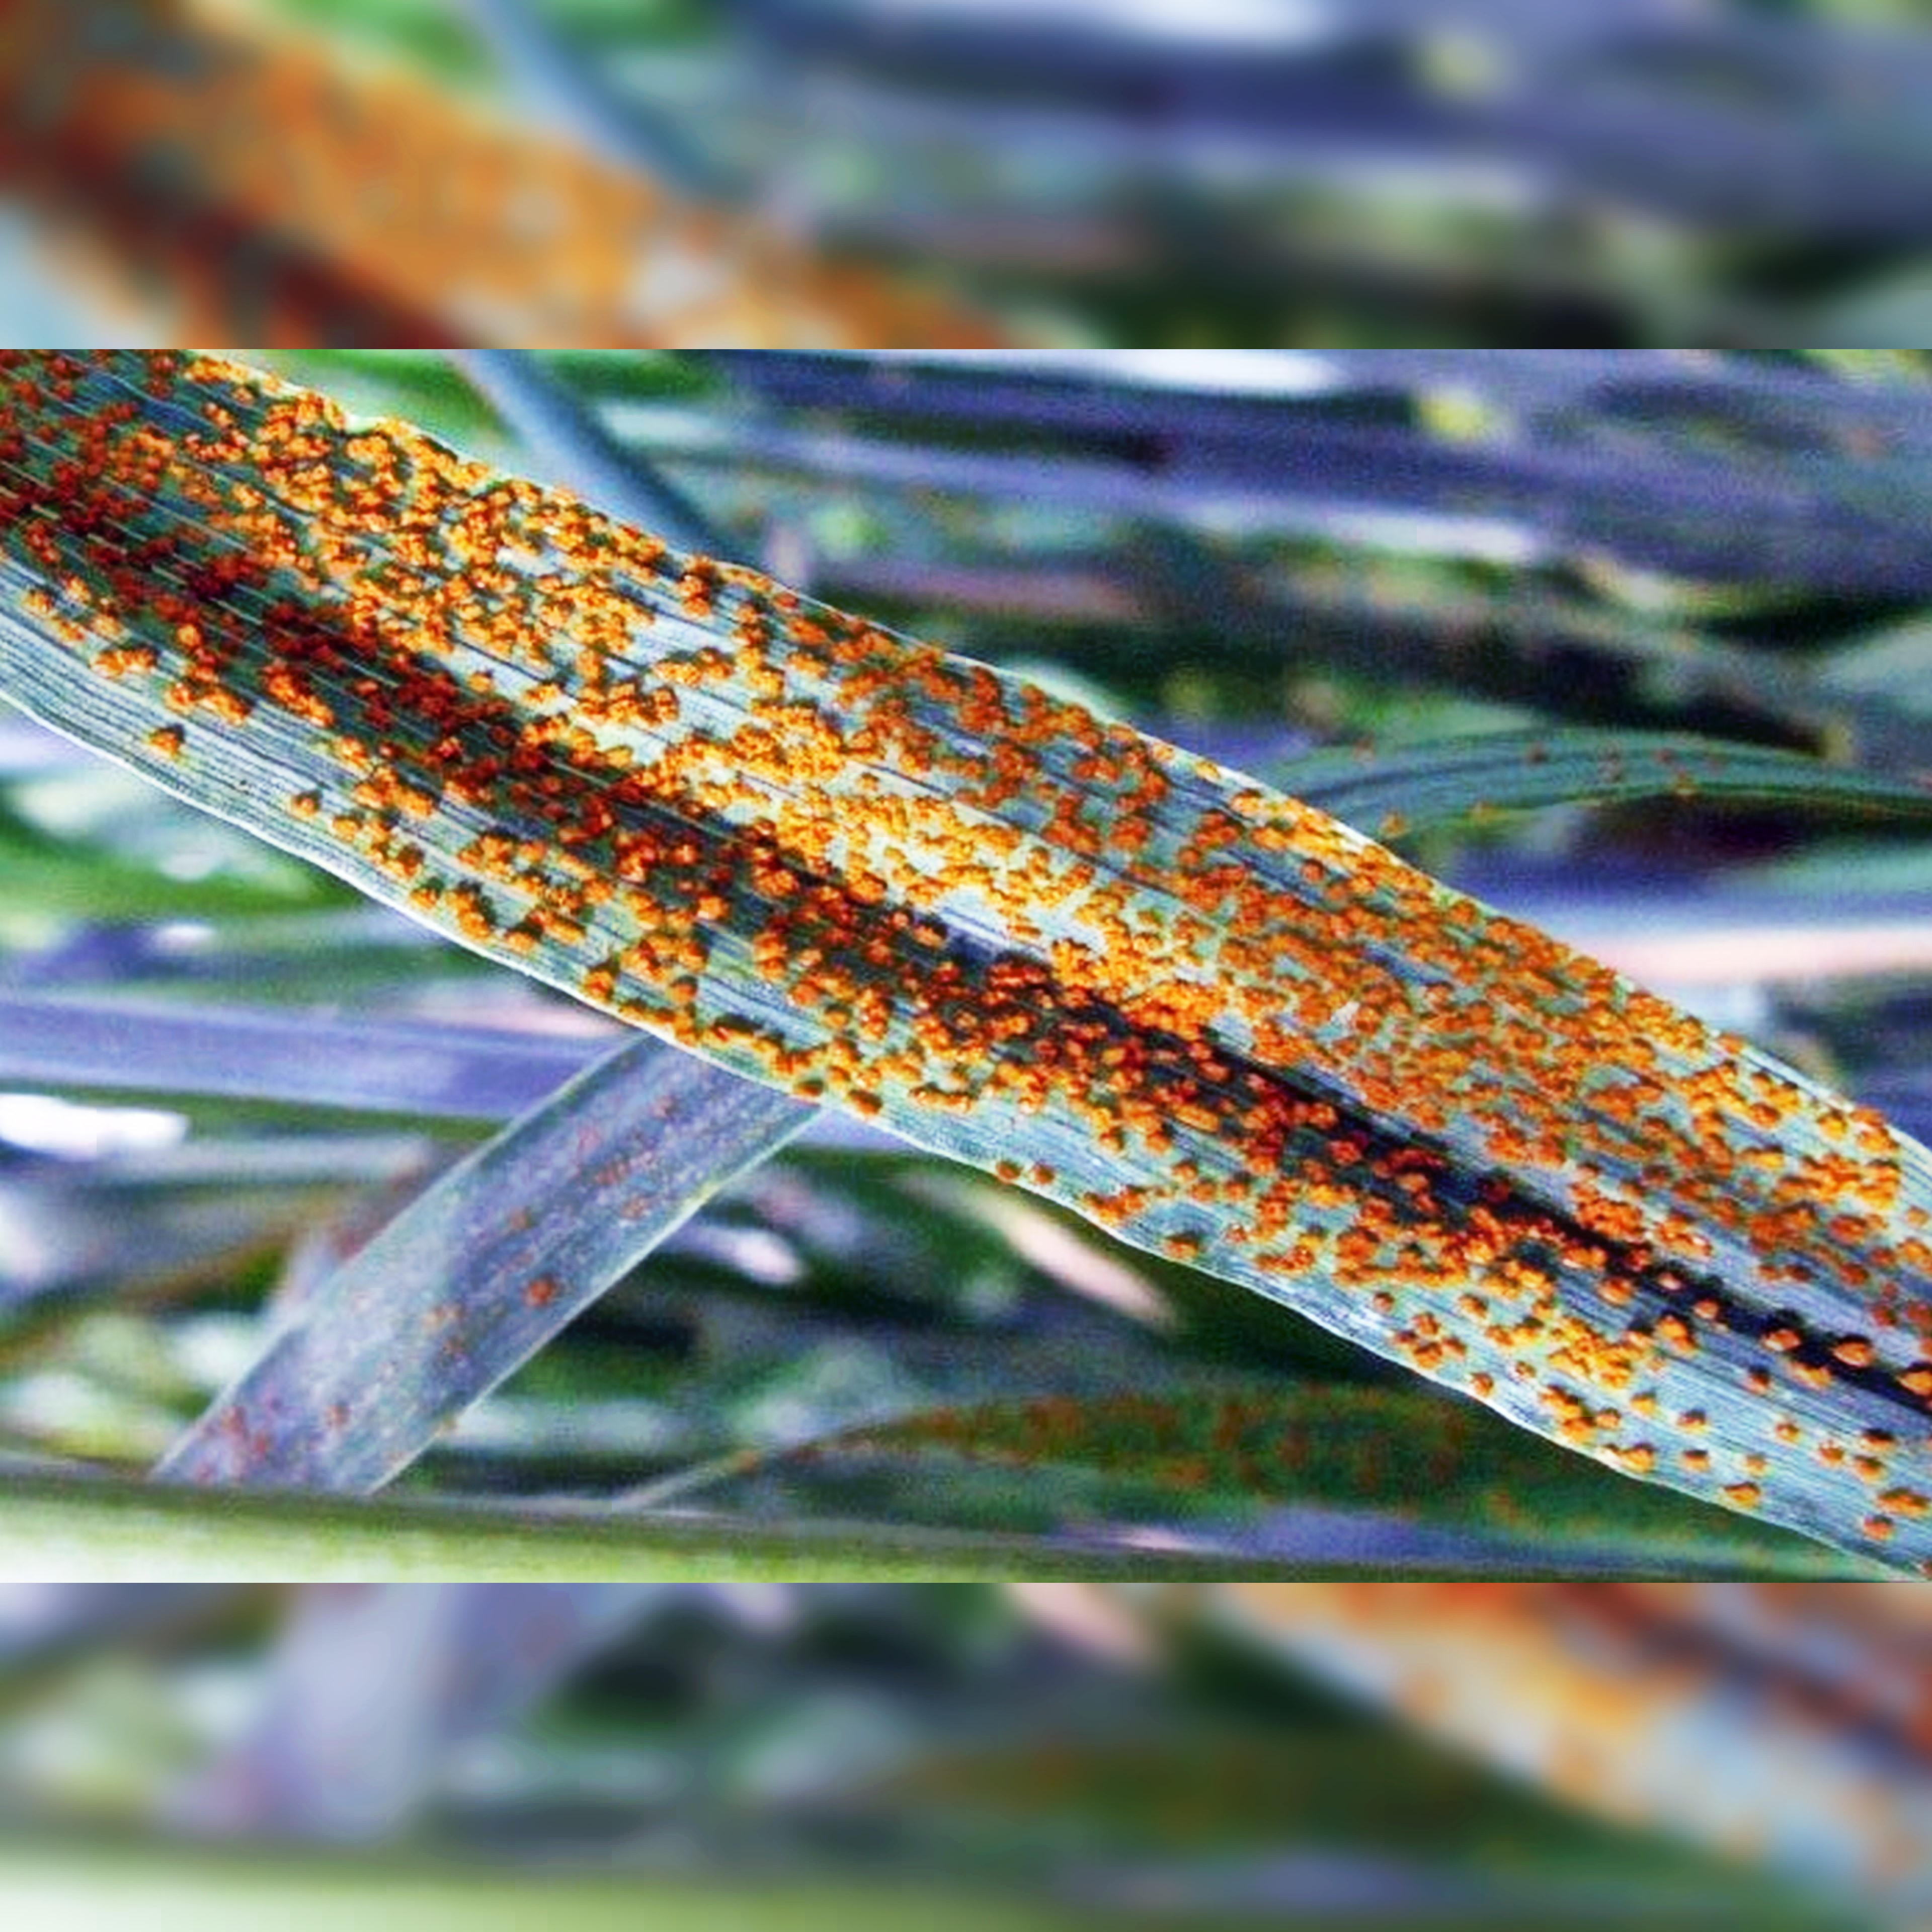Leaf Rust: (60, 451, 1845, 1495)
